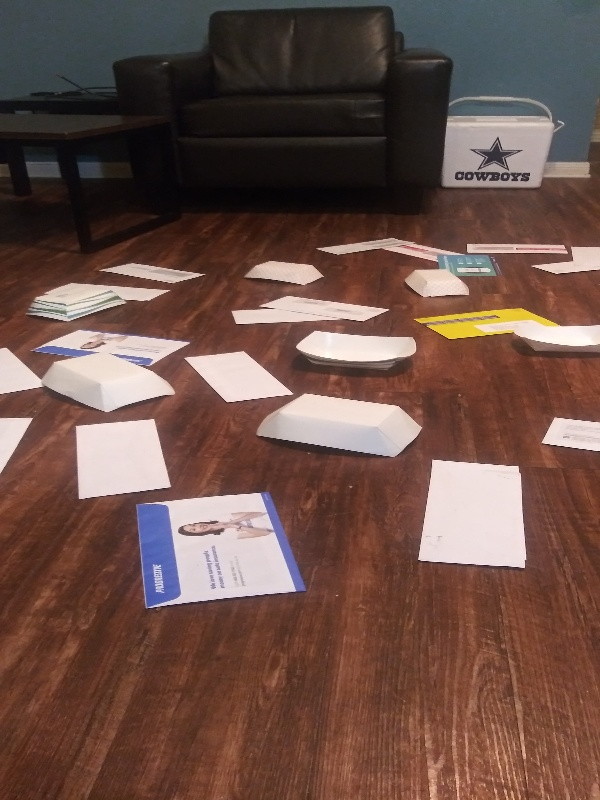plate: (252, 390, 425, 463), (38, 349, 177, 416), (292, 328, 423, 374), (23, 281, 128, 326), (505, 318, 600, 365), (242, 258, 327, 290), (403, 266, 473, 301)
